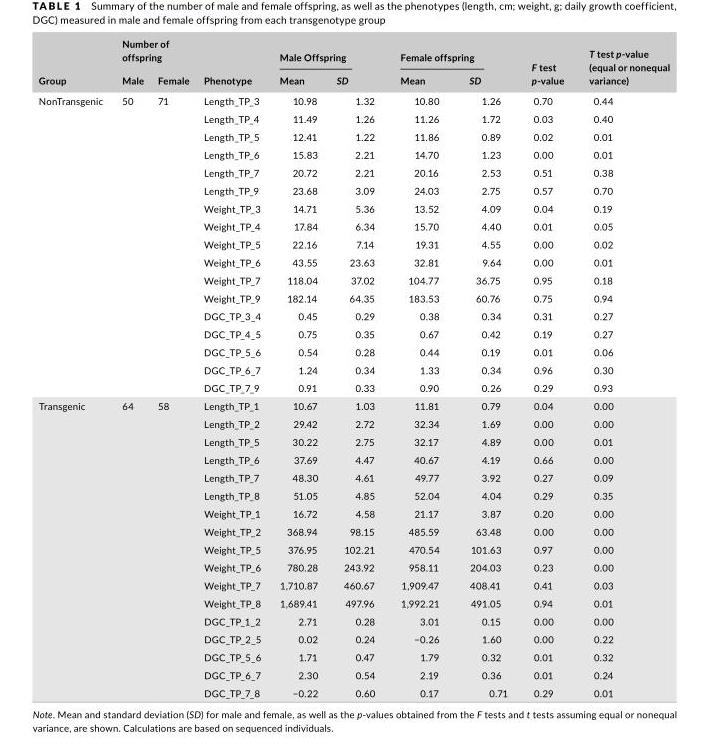table: (37, 37, 669, 698)
table column: (575, 37, 669, 698), (37, 37, 111, 698), (195, 37, 269, 698), (386, 37, 453, 698), (453, 37, 518, 698), (326, 37, 386, 698), (269, 37, 326, 698), (518, 37, 575, 698), (150, 37, 195, 698), (111, 37, 150, 698)
table column header: (37, 37, 669, 90)
table row: (37, 37, 669, 68), (37, 68, 669, 90), (37, 90, 669, 109), (37, 109, 669, 127), (37, 127, 669, 145), (37, 145, 669, 163), (37, 163, 669, 181), (37, 198, 669, 216), (37, 216, 669, 234), (37, 234, 669, 252), (37, 252, 669, 270), (37, 270, 669, 288), (37, 288, 669, 306), (37, 306, 669, 324), (37, 324, 669, 342), (37, 342, 669, 360), (37, 360, 669, 378), (37, 378, 669, 396), (37, 396, 669, 414), (37, 414, 669, 432), (37, 432, 669, 450), (37, 450, 669, 468), (37, 468, 669, 486), (37, 486, 669, 504), (37, 521, 669, 539), (37, 539, 669, 557), (37, 557, 669, 575), (37, 575, 669, 593), (37, 593, 669, 611), (37, 611, 669, 629), (37, 629, 669, 647), (37, 647, 669, 665), (37, 665, 669, 683), (37, 181, 669, 198), (37, 504, 669, 521), (37, 683, 669, 698)
table spanning cell: (37, 90, 111, 396), (37, 396, 111, 698), (150, 90, 195, 396), (150, 396, 195, 698), (111, 90, 150, 396), (111, 396, 150, 698), (575, 37, 669, 90), (386, 37, 518, 68), (37, 37, 111, 90), (195, 37, 269, 90), (269, 37, 386, 68), (518, 37, 575, 90), (111, 37, 195, 68)
